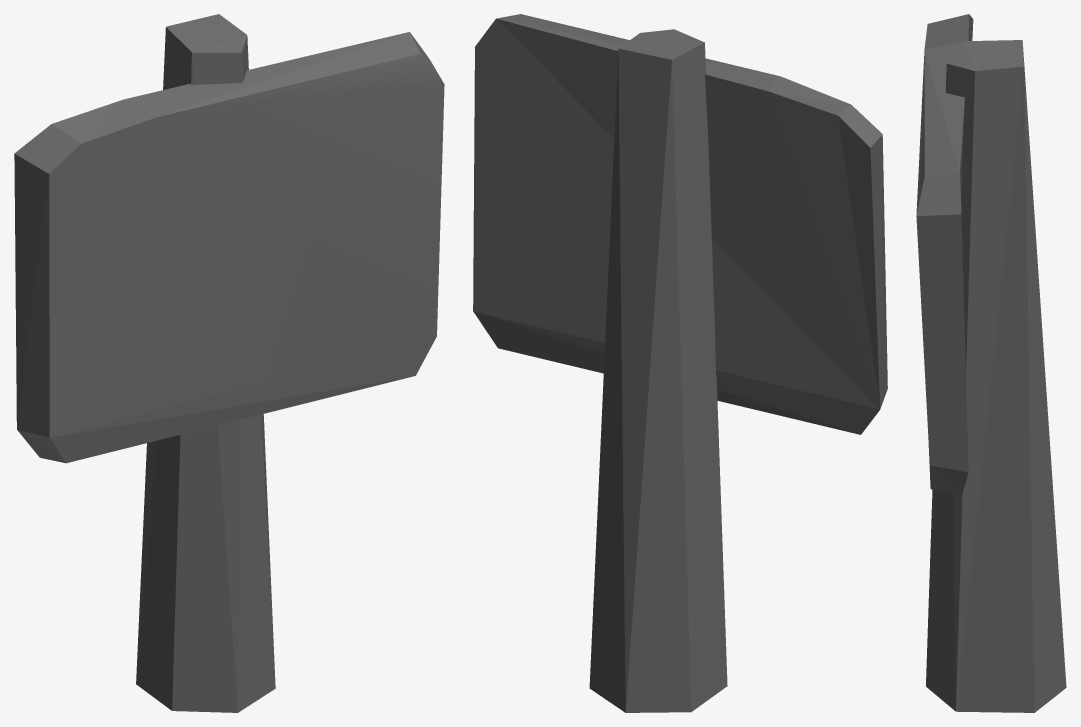
Rendered from Build_Board02.FBX.
3 renders of one model, left to right at view 1: azimuth 30°, elevation 25°; view 2: azimuth 150°, elevation 25°; view 3: azimuth 270°, elevation 25°, orthographic. The views are drawn at different scales.
Visible parts, largest first — view 1: Build_Board02; view 2: Build_Board02; view 3: Build_Board02.
Boxes of the visible parts, bbox=[...] form: Build_Board02: bbox=[14, 14, 444, 712]; Build_Board02: bbox=[473, 14, 887, 712]; Build_Board02: bbox=[916, 14, 1066, 712].
Size of the model in its own units: 67.07 by 102 by 21.74.
Materials: 1 (1 with a texture image).
